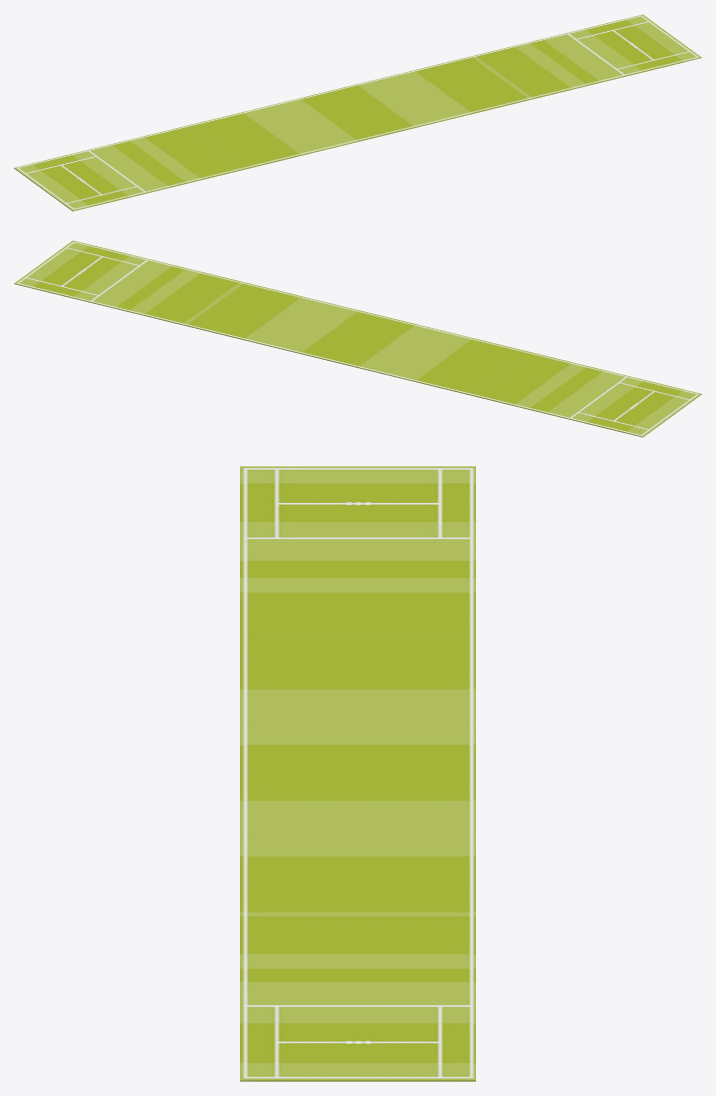
The model's file is Pitch.fbx.
The picture shows the model from 3 angles, top to bottom: view 1: azimuth 30°, elevation 25°; view 2: azimuth 150°, elevation 25°; view 3: azimuth 270°, elevation 25°; orthographic projection. The views are drawn at different scales.
Parts seen in each view (by area): view 1: Pitch; view 2: Pitch; view 3: Pitch.
Boxes of the visible parts, bbox=[...] form: Pitch: bbox=[14, 14, 701, 211]; Pitch: bbox=[14, 240, 701, 437]; Pitch: bbox=[240, 466, 475, 1081].
Size of the model in its own units: 2256 by 2 by 366.
